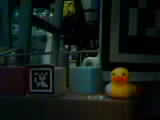duck: (101, 61, 134, 93)
